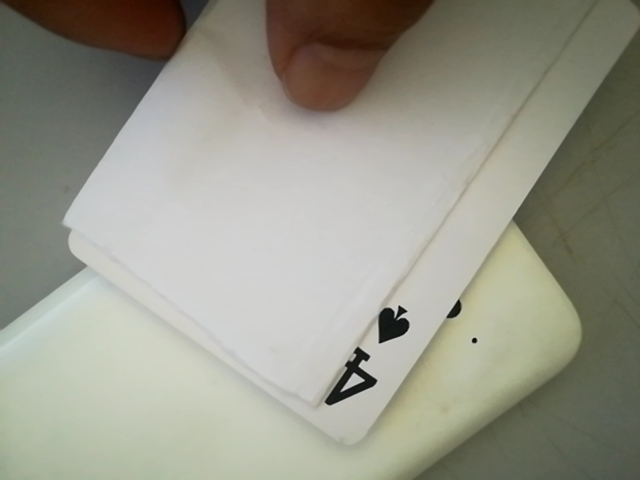ht 4: (309, 290, 429, 427)
